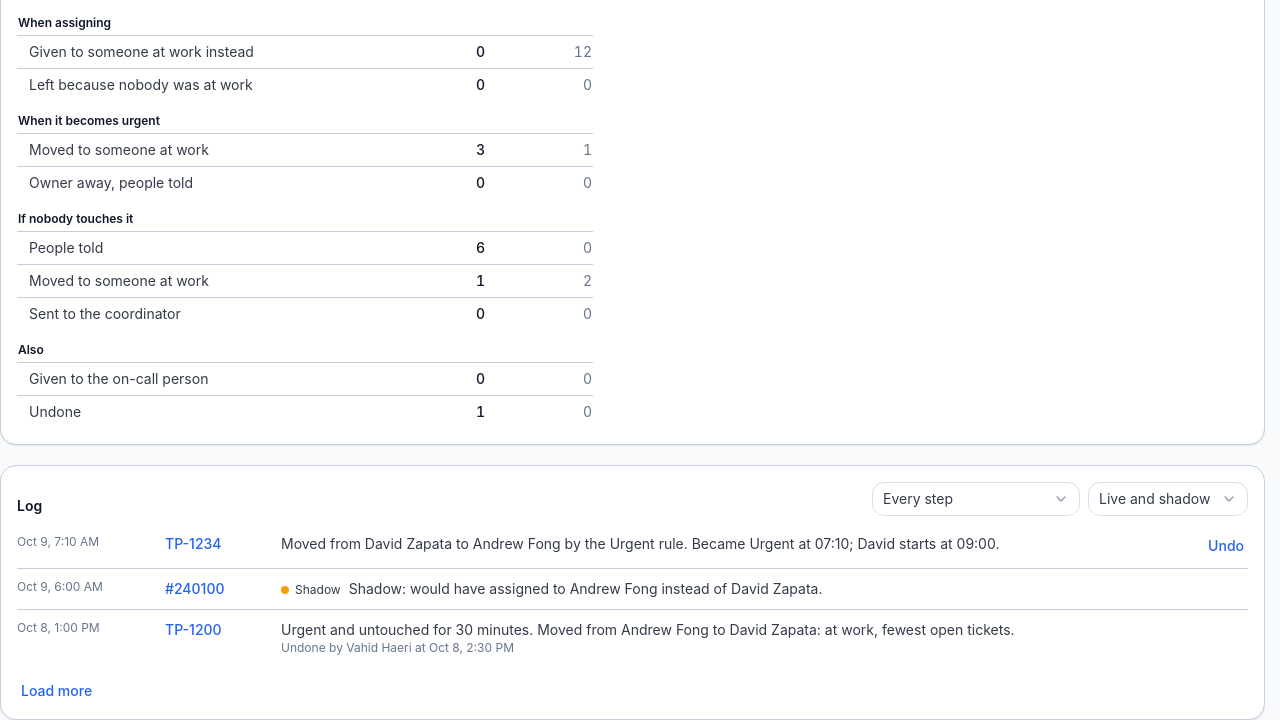
Test: Urgent response: Log › Load more asks for the rows before the last one and adds them
(page scrolled)
Expected: the number of list items with test id "urgent-log-row" is 3, [17,534,1248,558]; [17,568,1248,609]; [17,609,1248,666]
Click the button "Load more" at [57, 691], box [17,679,96,703]
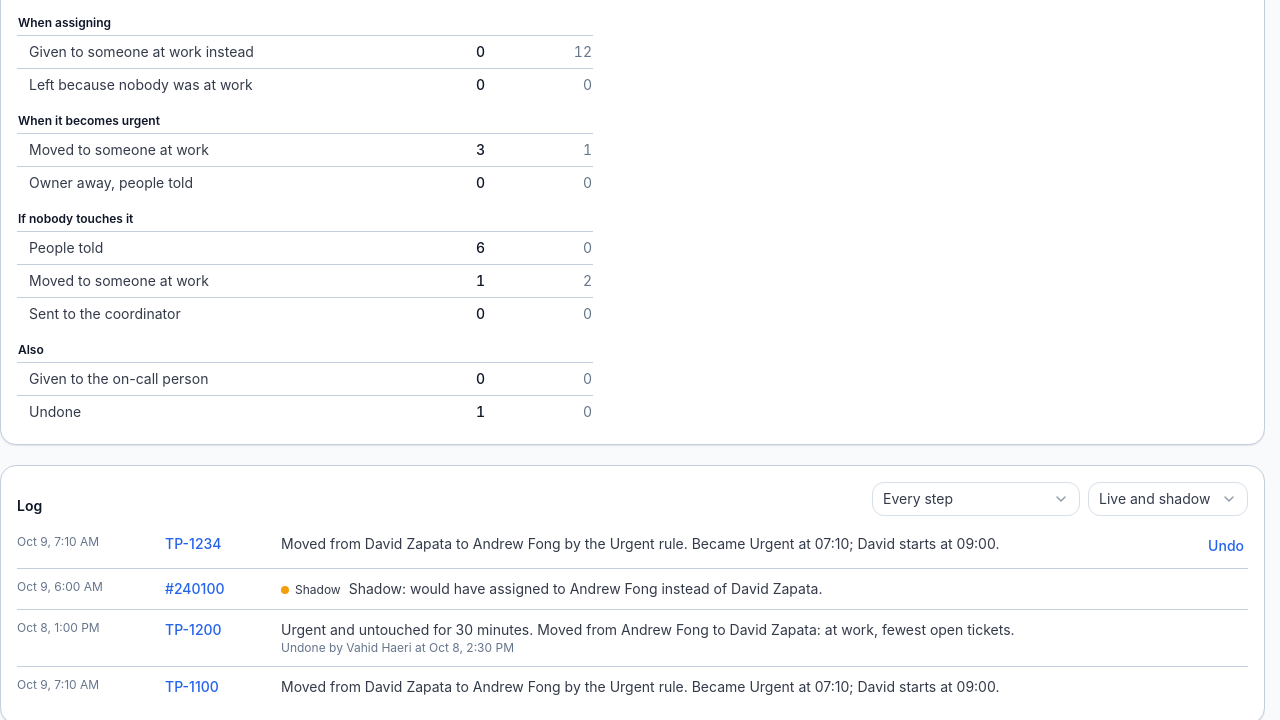
Now the number of list items with test id "urgent-log-row" is 4, box [17,534,1248,558]; [17,568,1248,609]; [17,609,1248,666]; [17,666,1248,707]
Now the list item with test id "urgent-log-row" shows "TP-1100", box [165,678,219,695]
Now the button "Load more" is gone
